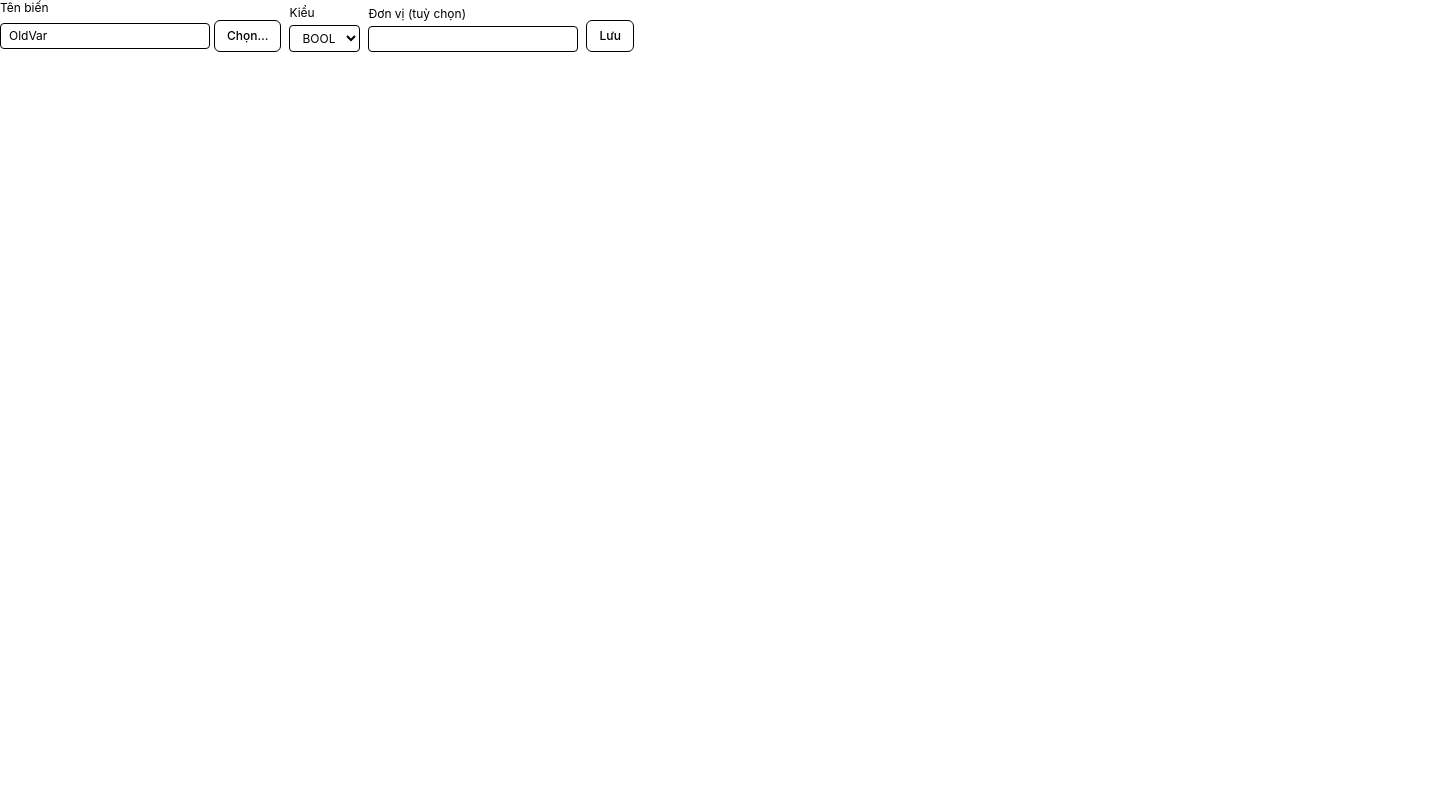
Scenario: FbdNodeInspector › B-T1: Node INPUT, mở picker, chọn 1 point => trường tên/kiểu/đơn vị điền đúng từ entry
Note: Mở picker bằng nút Chọn…
Step 1. Click the button "Chọn…" → (248, 36), box left=214, top=20, right=281, bottom=52
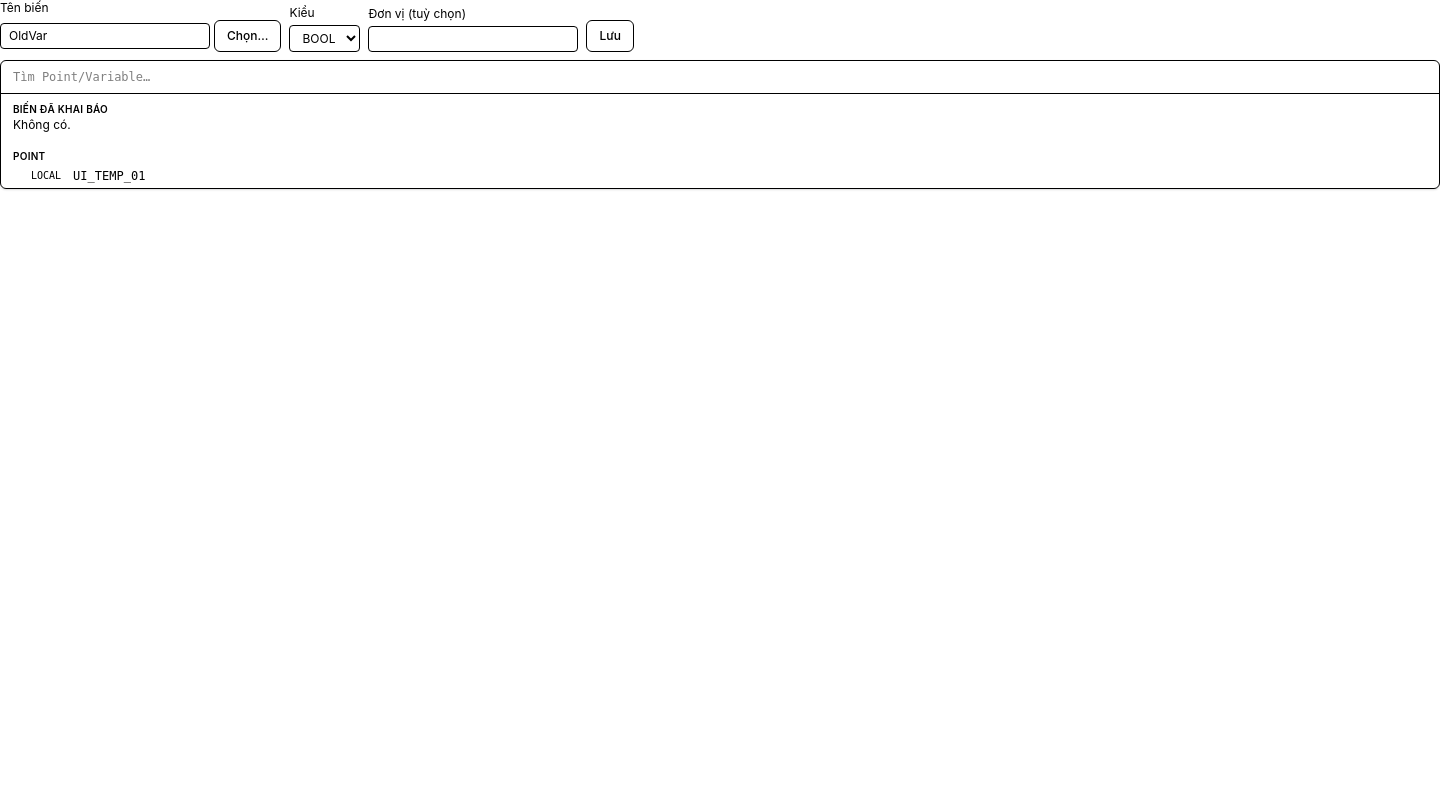
Note: Chọn point UI_TEMP_01
Step 2. Click the button "LOCAL UI_TEMP_01" → (46, 176), box left=1, top=164, right=1439, bottom=188
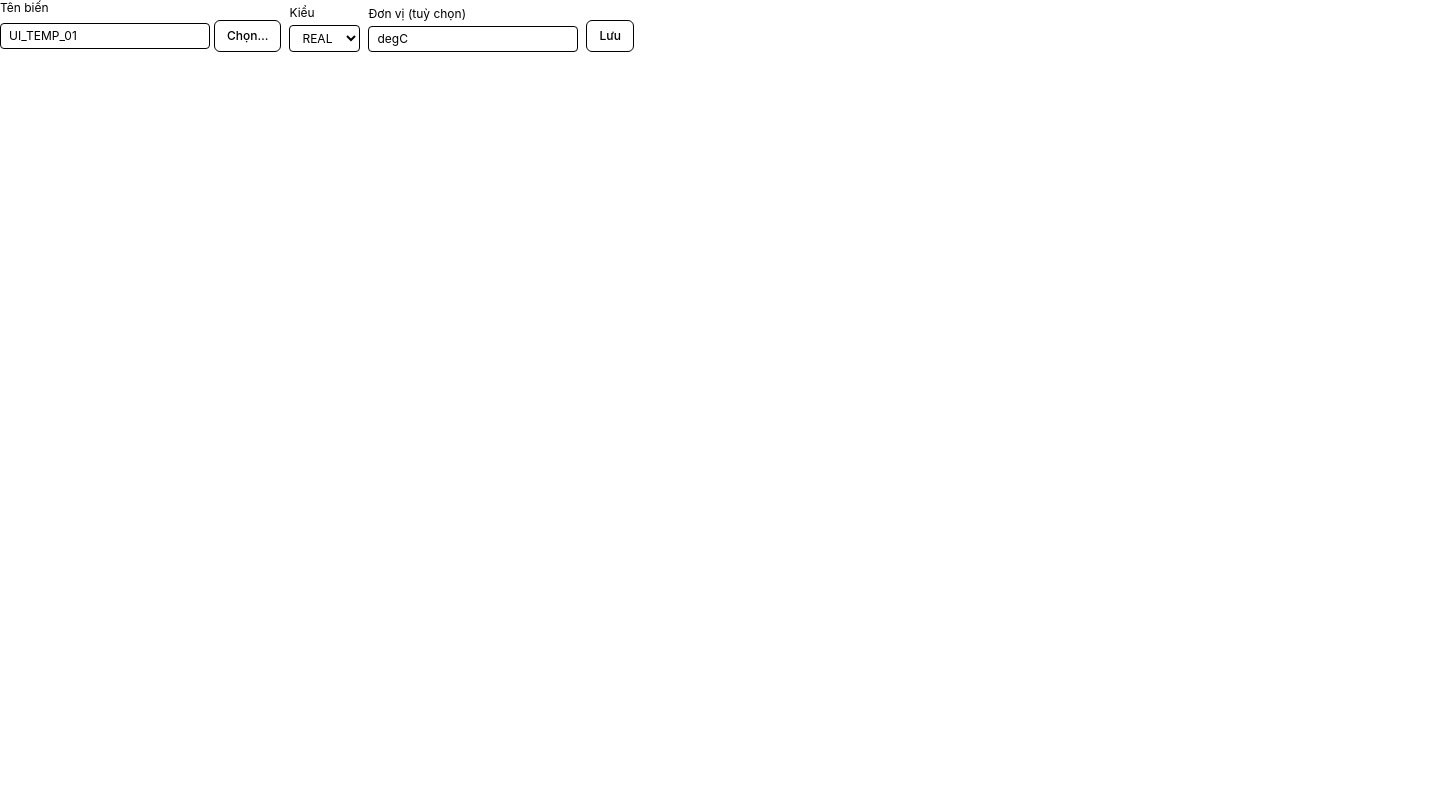
Now the field labelled "Tên biến" holds "UI_TEMP_01", box left=0, top=23, right=210, bottom=49
Now the dropdown labelled "Kiểu" shows "REAL", box left=289, top=25, right=360, bottom=52
Now the field labelled "Đơn vị (tuỳ chọn)" holds "degC", box left=368, top=26, right=578, bottom=52
